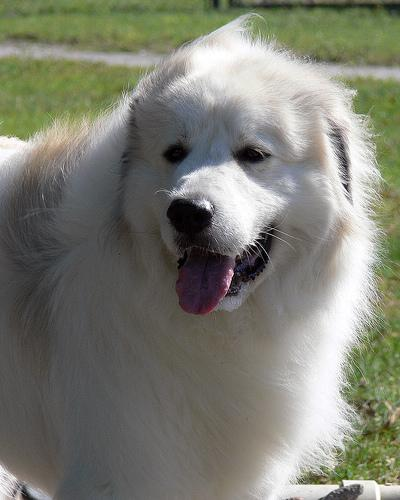dog-great_pyrenees: (120, 40, 337, 314)
